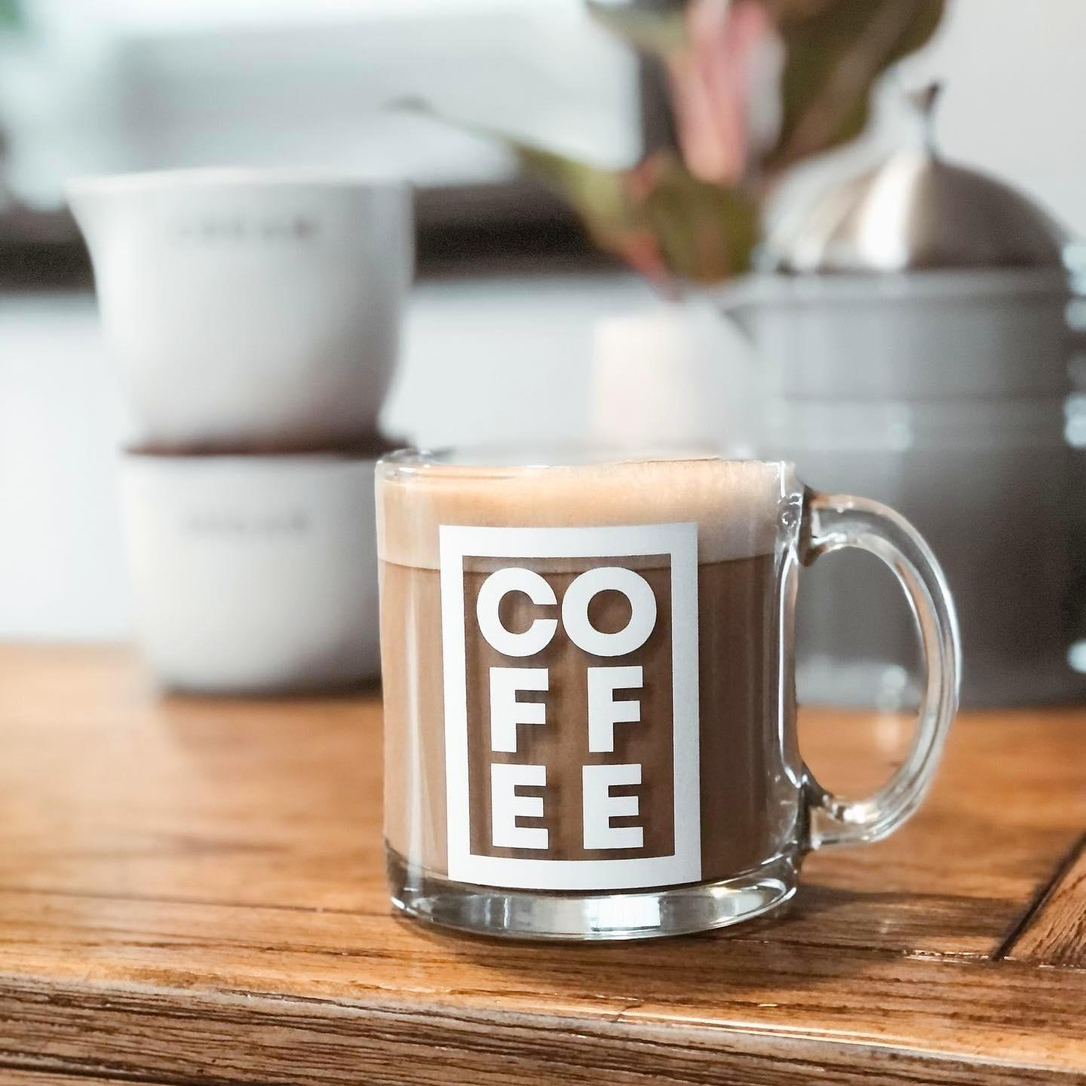glass-mug: (360, 434, 972, 960)
